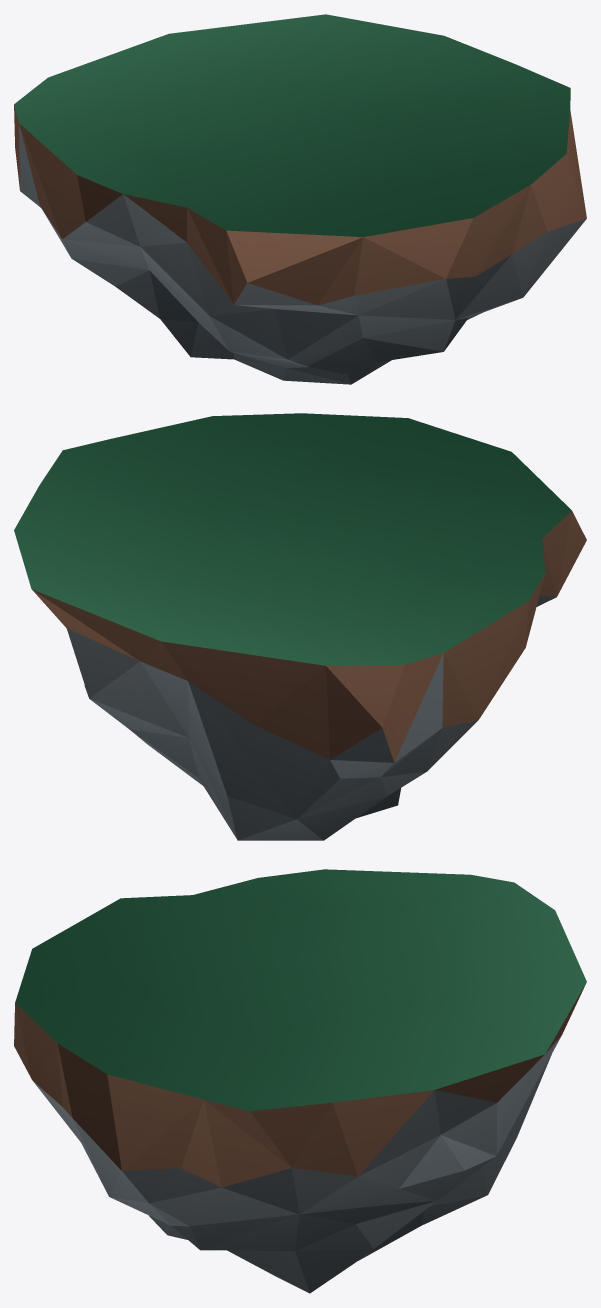
File: island small.fbx
The picture shows the model from 3 angles, top to bottom: view 1: azimuth 30°, elevation 25°; view 2: azimuth 150°, elevation 25°; view 3: azimuth 270°, elevation 25°; orthographic projection. The views are drawn at different scales.
Visible parts, largest first — view 1: Cube; view 2: Cube; view 3: Cube.
Part boxes in pixels (left/top/right/bottom): Cube: left=14, top=14, right=586, bottom=384; Cube: left=14, top=413, right=586, bottom=840; Cube: left=14, top=869, right=586, bottom=1293.
Bounding box in the file's own units: 812 × 429 × 813.
